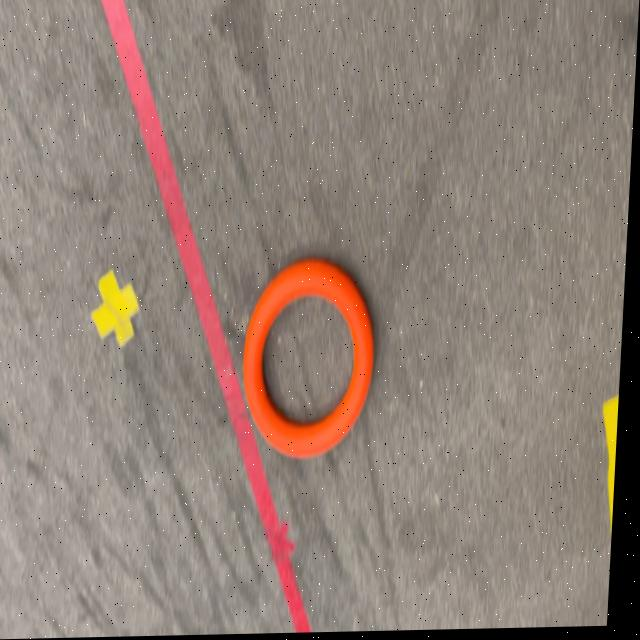note: (244, 263, 381, 462)
